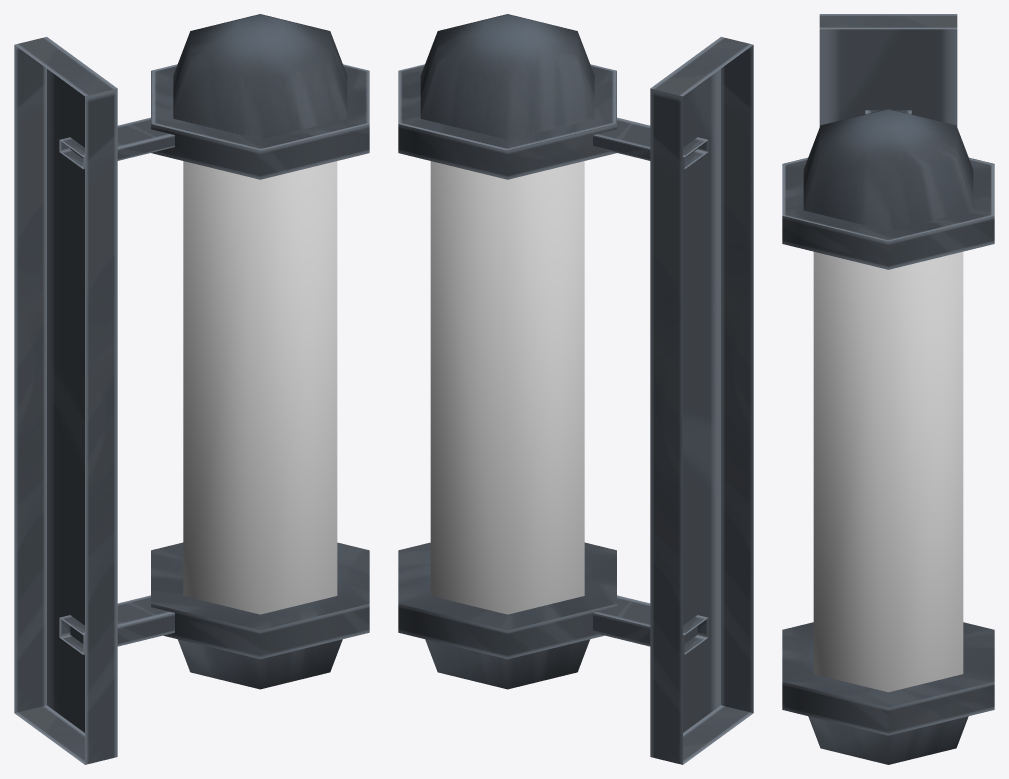
The model's file is jiedao_BJ_036.fbx.
3 views of the same model, side by side, from view 1: azimuth 30°, elevation 25°; view 2: azimuth 150°, elevation 25°; view 3: azimuth 270°, elevation 25° (orthographic). The views are drawn at different scales.
Parts seen in each view (by area): view 1: BJ036; view 2: BJ036; view 3: BJ036.
Part boxes in pixels (left/top/right/bottom): BJ036: left=14, top=14, right=369, bottom=764; BJ036: left=398, top=14, right=753, bottom=764; BJ036: left=782, top=14, right=994, bottom=764.
Bounding box in the file's own units: 40.34 × 23.88 × 80.52.
